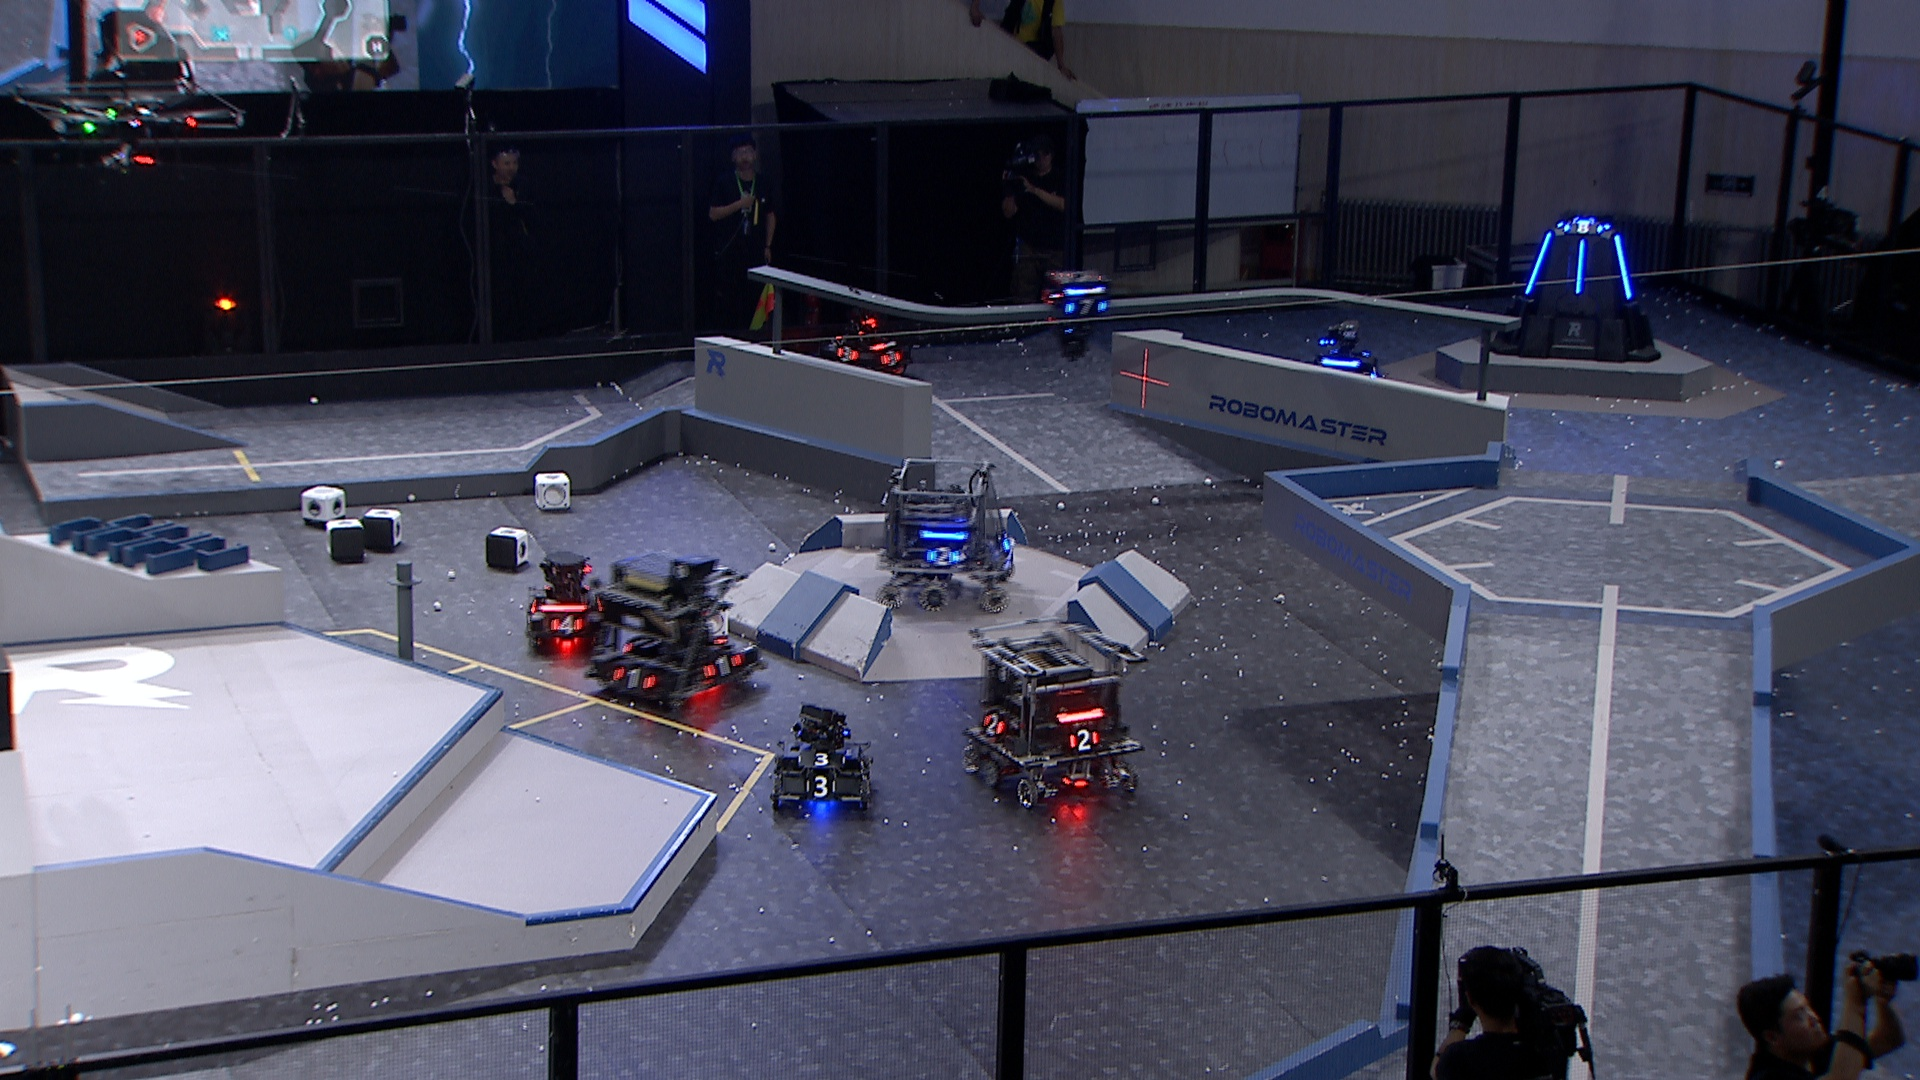armor: (1522, 229, 1555, 299), (1610, 232, 1636, 301), (609, 665, 655, 694), (703, 651, 744, 679), (1571, 237, 1589, 295), (1062, 297, 1109, 319), (794, 749, 847, 767), (546, 615, 583, 638), (1068, 727, 1102, 752), (924, 546, 963, 568), (804, 773, 836, 798), (1563, 216, 1604, 235), (877, 344, 907, 367), (982, 713, 1005, 737), (835, 343, 858, 365), (1000, 531, 1019, 555)
base: (1487, 214, 1665, 367)
car: (961, 613, 1149, 812), (585, 549, 769, 713), (872, 455, 1026, 617), (766, 704, 877, 818), (522, 553, 609, 655), (1299, 324, 1394, 405), (822, 305, 915, 378)
watcher: (1044, 268, 1112, 363)
